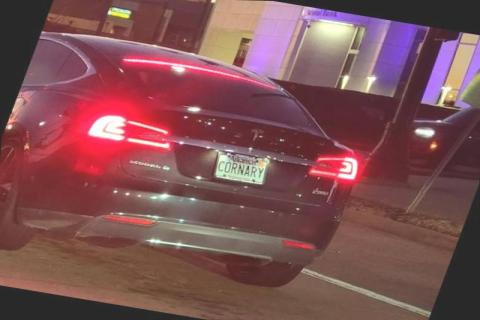LicensePlate: (209, 149, 268, 184)
